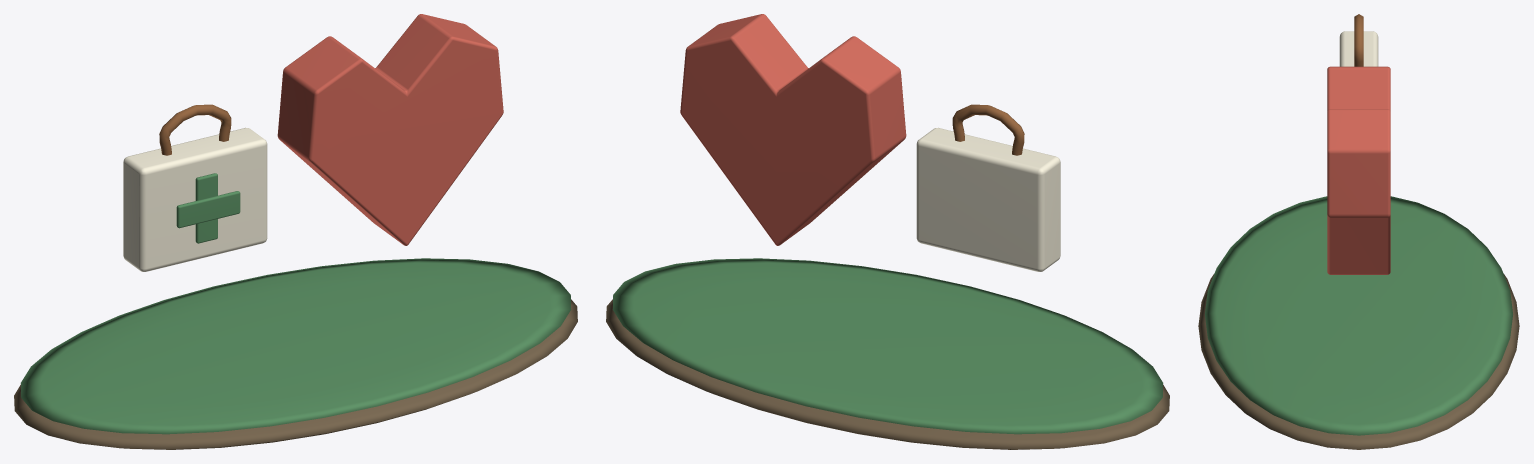
The model's file is hurt-heart.glb.
3 renders of one model, left to right at view 1: azimuth 30°, elevation 25°; view 2: azimuth 150°, elevation 25°; view 3: azimuth 270°, elevation 25°, orthographic. The views are drawn at different scales.
Visible parts, largest first — view 1: hurt-heart_surface_01, hurt-heart_surface_04, hurt-heart_surface_02, hurt-heart_surface_00, hurt-heart_surface_03; view 2: hurt-heart_surface_01, hurt-heart_surface_04, hurt-heart_surface_02, hurt-heart_surface_00, hurt-heart_surface_03; view 3: hurt-heart_surface_01, hurt-heart_surface_04, hurt-heart_surface_00, hurt-heart_surface_02, hurt-heart_surface_03.
Boxes of the visible parts, left/top/right/bottom form: hurt-heart_surface_01: left=20, top=173, right=571, bottom=434; hurt-heart_surface_04: left=277, top=14, right=503, bottom=245; hurt-heart_surface_02: left=123, top=127, right=267, bottom=271; hurt-heart_surface_00: left=14, top=299, right=577, bottom=449; hurt-heart_surface_03: left=159, top=104, right=231, bottom=155; hurt-heart_surface_01: left=612, top=258, right=1163, bottom=434; hurt-heart_surface_04: left=680, top=14, right=906, bottom=245; hurt-heart_surface_02: left=916, top=127, right=1060, bottom=271; hurt-heart_surface_00: left=606, top=299, right=1169, bottom=449; hurt-heart_surface_03: left=952, top=104, right=1024, bottom=155; hurt-heart_surface_01: left=1205, top=196, right=1512, bottom=435; hurt-heart_surface_04: left=1327, top=66, right=1390, bottom=274; hurt-heart_surface_00: left=1198, top=274, right=1519, bottom=449; hurt-heart_surface_02: left=1339, top=31, right=1378, bottom=66; hurt-heart_surface_03: left=1354, top=14, right=1363, bottom=66.
Size of the model in its own units: 4.56 by 2.54 by 2.5.
